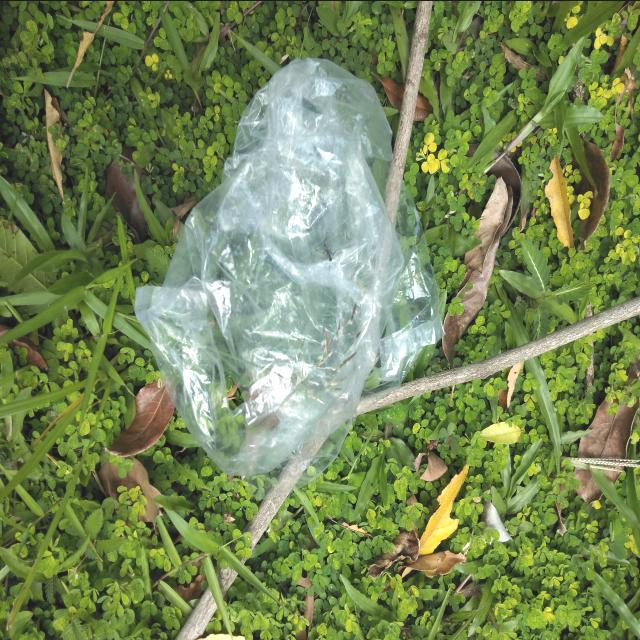Plastic film: (134, 56, 446, 499)
